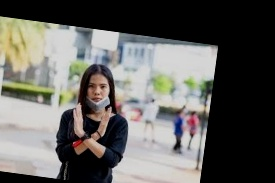mask_weared_incorrect: (82, 68, 112, 113)
